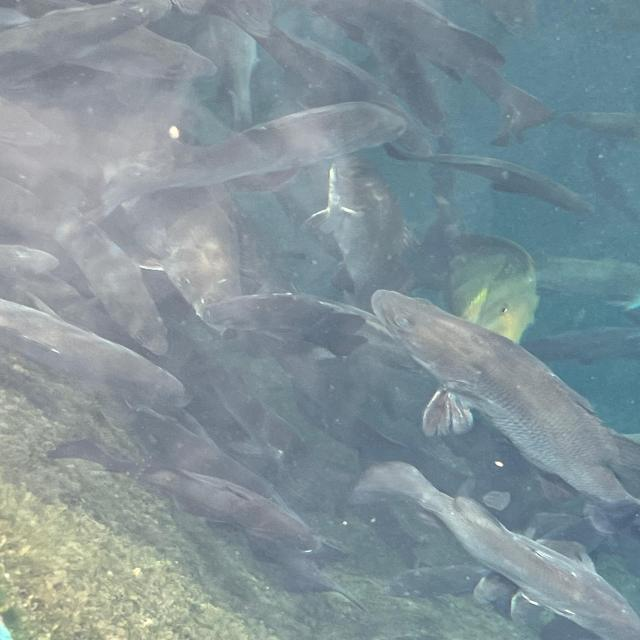ikan: (317, 456, 614, 612), (358, 283, 594, 446), (176, 84, 444, 195)
